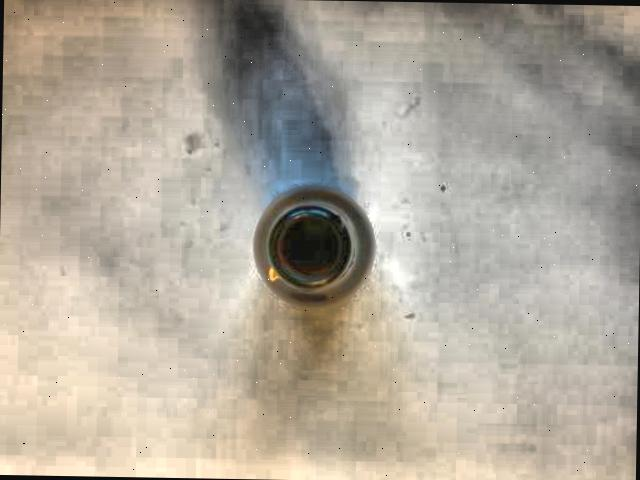Bottles: (245, 168, 389, 322)
